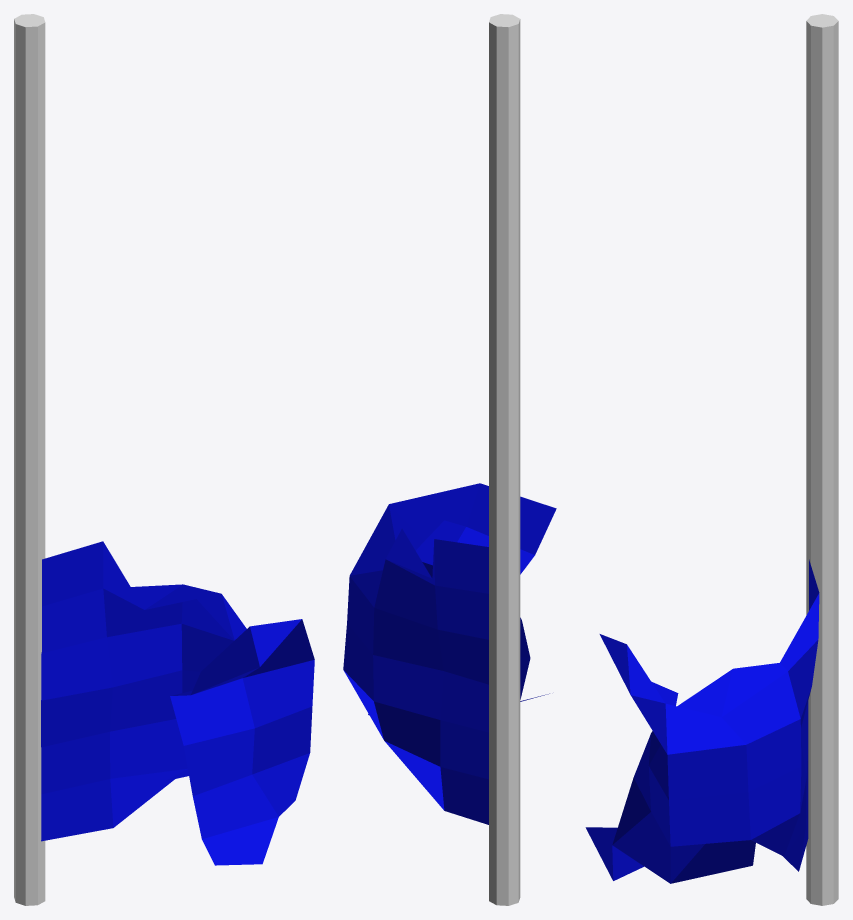
Rendered from Flagge.fbx.
3 renders of one model, left to right at view 1: azimuth 30°, elevation 25°; view 2: azimuth 150°, elevation 25°; view 3: azimuth 270°, elevation 25°, orthographic.
Visible parts, largest first — view 1: Plane, Cylinder.001; view 2: Plane, Cylinder.001; view 3: Plane, Cylinder.001.
Part boxes in pixels (bbox=[...]): Plane: bbox=[41, 541, 314, 865]; Cylinder.001: bbox=[14, 14, 45, 905]; Plane: bbox=[343, 483, 556, 824]; Cylinder.001: bbox=[489, 14, 520, 905]; Plane: bbox=[585, 559, 819, 883]; Cylinder.001: bbox=[806, 14, 838, 905].
Bounding box in the file's own units: 158 × 600 × 157.
